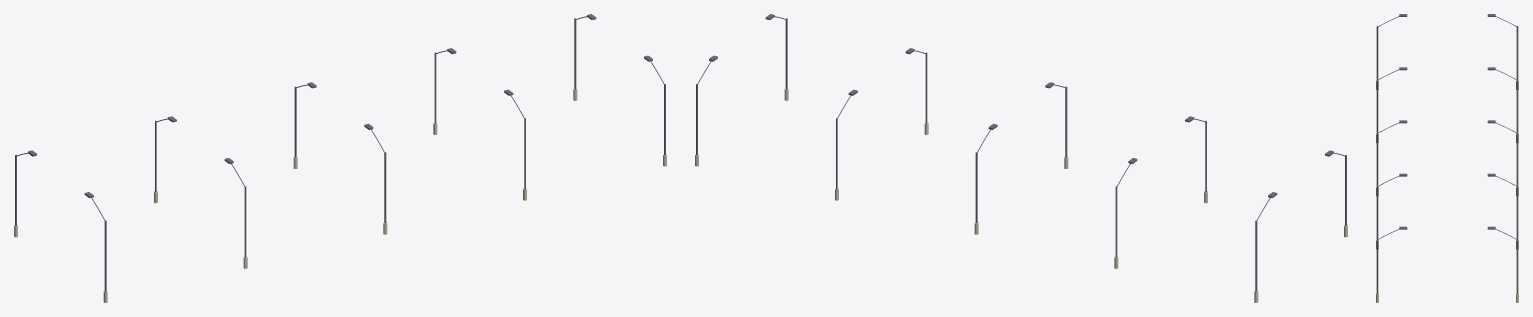
3 renders of one model, left to right at view 1: azimuth 30°, elevation 25°; view 2: azimuth 150°, elevation 25°; view 3: azimuth 270°, elevation 25°, orthographic. The views are drawn at different scales.
Visible parts, largest first — view 1: buildings_s_-9_-6_Dark_Metal, buildings_s_-9_-6_Warm_Limestone; view 2: buildings_s_-9_-6_Dark_Metal, buildings_s_-9_-6_Warm_Limestone; view 3: buildings_s_-9_-6_Dark_Metal, buildings_s_-9_-6_Warm_Limestone.
Part boxes in pixels (bbox=[...]): buildings_s_-9_-6_Dark_Metal: bbox=[15, 14, 665, 291]; buildings_s_-9_-6_Warm_Limestone: bbox=[14, 88, 666, 302]; buildings_s_-9_-6_Dark_Metal: bbox=[696, 14, 1346, 291]; buildings_s_-9_-6_Warm_Limestone: bbox=[695, 88, 1347, 302]; buildings_s_-9_-6_Dark_Metal: bbox=[1376, 14, 1518, 294]; buildings_s_-9_-6_Warm_Limestone: bbox=[1376, 80, 1518, 302].
Bounding box in the file's own units: 109 × 17.75 × 30.67.
